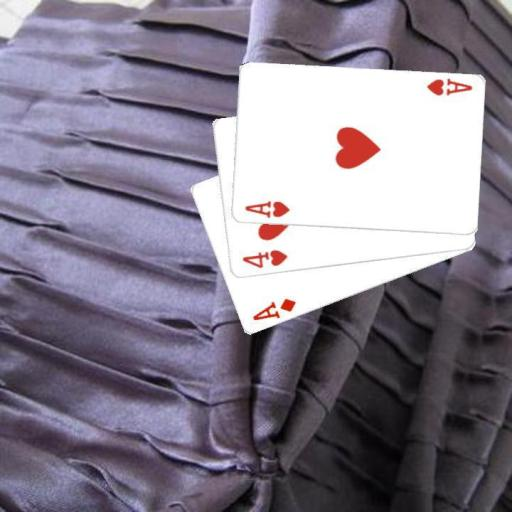card-corner: (249, 296, 297, 323), (239, 247, 289, 270), (423, 76, 474, 98), (242, 198, 291, 220)
